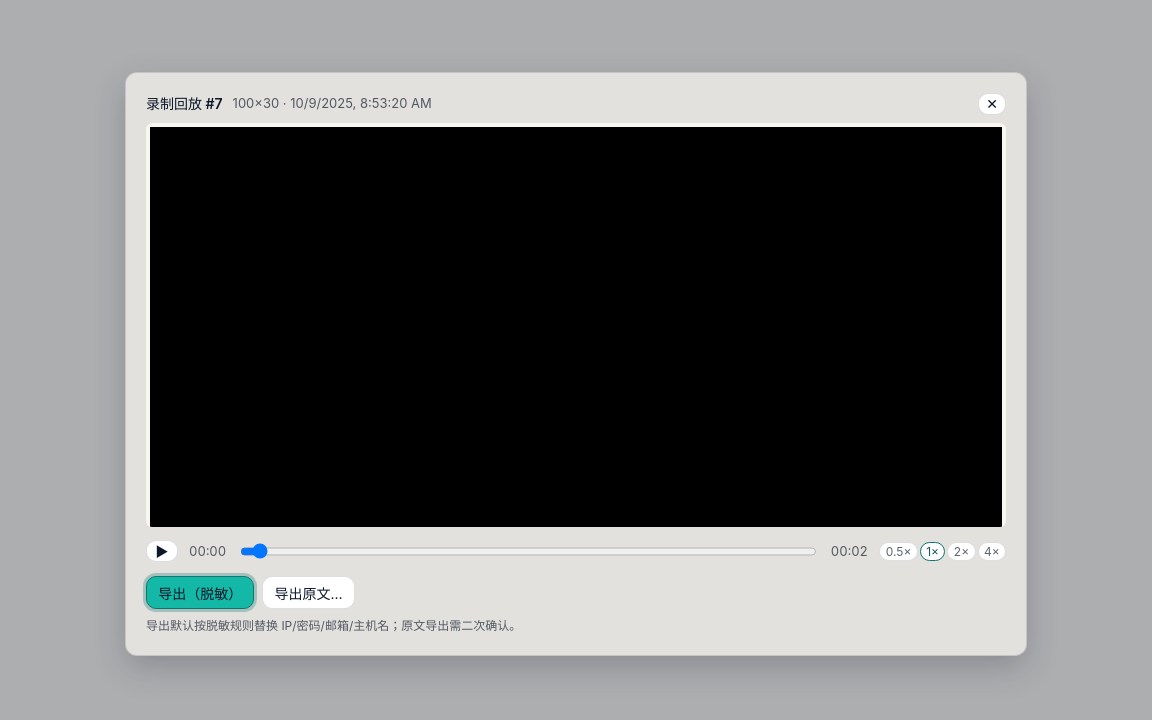
Scenario: RecordingPlayer › 播放推进：tick 写后续事件块，结束自动停
Step 1. Click the button with test id "player-play" → (162, 551), box x1=146 y1=540 x2=178 y2=562
Wait 3050 ms
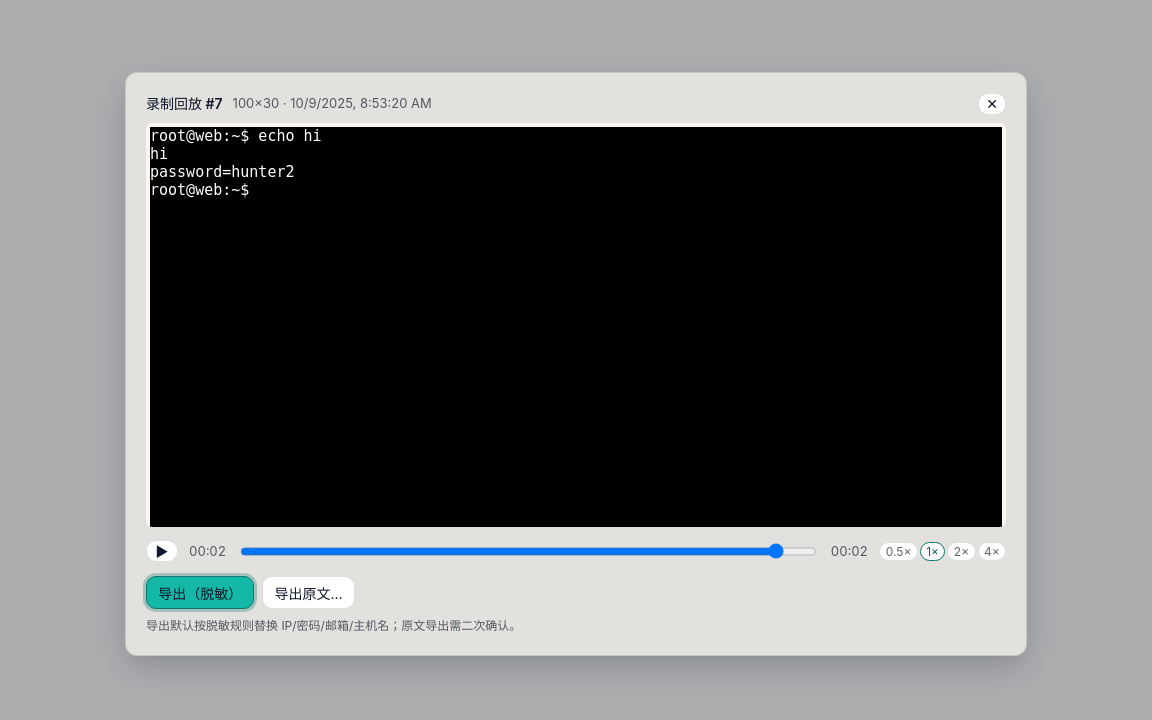
Now the text with test id "player-time" reads "00:02", box x1=189 y1=543 x2=226 y2=559
